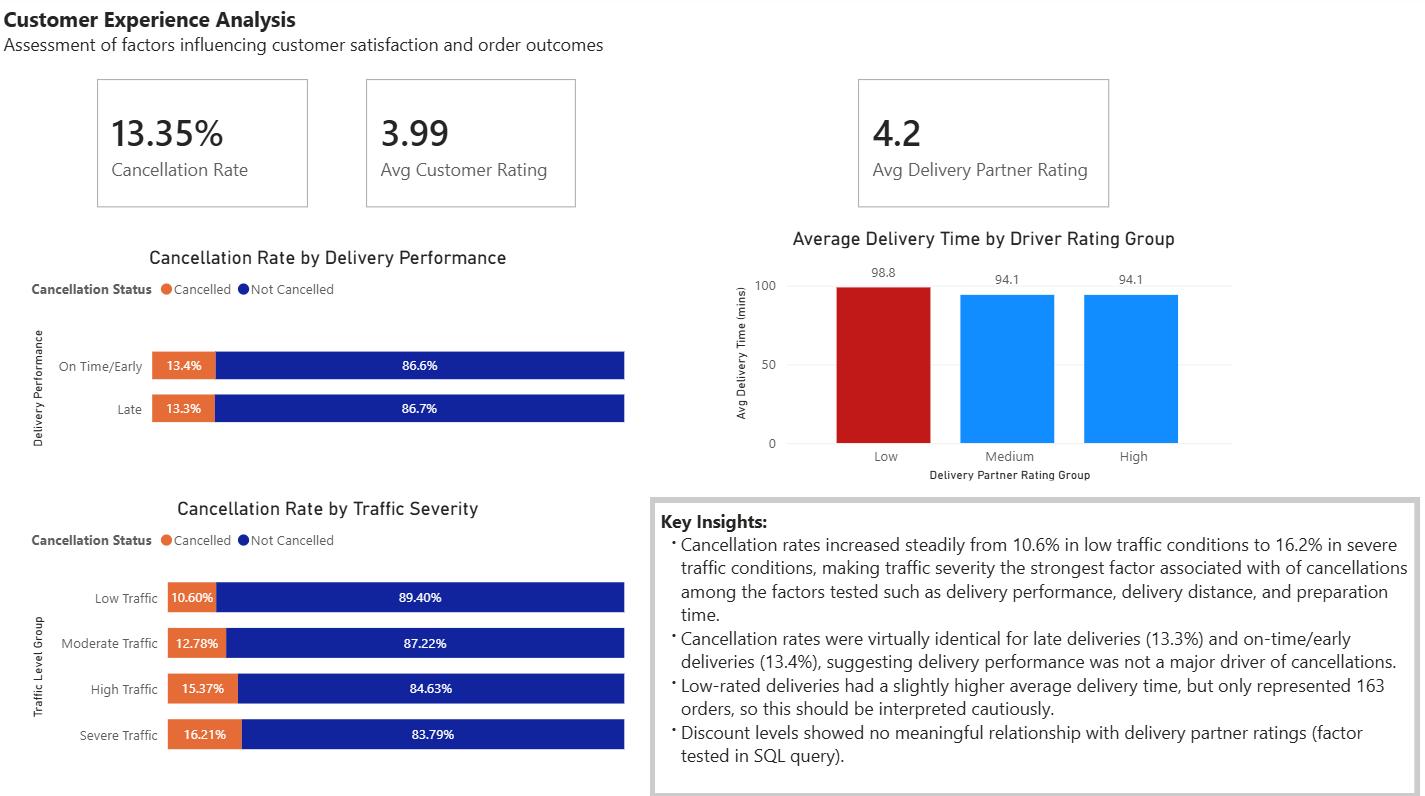

This screenshot's page, from the dashboard's own definition file:
{"tool":"powerbi","page":{"name":"Customer Experience Analysis","canvas":[1280,720],"ordinal":3},"visuals":[{"type":"shape","box":[583.6,448.4,689.6,271.4],"z":0},{"type":"textbox","box":[0,2.9,623.5,81.7],"z":1000},{"type":"cardVisual","fields":{"Data":["food_delivery_data.Avg Customer Rating"]},"box":[312.2,57.4,222.7,149.8],"z":2000},{"type":"cardVisual","fields":{"Data":["food_delivery_data.Cancellation Rate"]},"box":[72,57.4,223.7,149.8],"z":3000},{"type":"cardVisual","fields":{"Data":["food_delivery_data.Avg Delivery Partner Rating"]},"box":[752.8,57.4,259.7,149.8],"z":4000},{"type":"clusteredColumnChart","title":"Average Delivery Time by Driver Rating Group","fields":{"Category":["food_delivery_data.Customer Rating Group"],"Y":["food_delivery_data.Avg Delivery Time (mins)"]},"box":[654.6,207.2,456.2,232.5],"z":5000},{"type":"textbox","box":[588.4,454.2,679.9,259.7],"z":6000},{"type":"hundredPercentStackedBarChart","title":"Cancellation Rate by Delivery Performance","fields":{"Category":["food_delivery_data.Delivery Performance"],"Y":["CountNonNull(food_delivery_data.order_id)"],"Series":["food_delivery_data.Cancellation Status"]},"box":[25.3,223.7,540.8,199.4],"z":7000},{"type":"hundredPercentStackedBarChart","title":"Cancellation Rate by Traffic Severity","fields":{"Category":["food_delivery_data.Traffic Level Group"],"Y":["CountNonNull(food_delivery_data.order_id)"],"Series":["food_delivery_data.Cancellation Status"]},"box":[25.3,448.4,540.8,249],"z":8000}]}

Visuals, with their boxes in screenshot pixels (x1, y1, x2, y2), scaled from the page's 1280x720 canvas onto the 1425x796 screenshot:
shape: [x1=650, y1=496, x2=1417, y2=795]
textbox: [x1=0, y1=3, x2=694, y2=94]
cardVisual - food_delivery_data.Avg Customer Rating: [x1=348, y1=63, x2=595, y2=229]
cardVisual - food_delivery_data.Cancellation Rate: [x1=80, y1=63, x2=329, y2=229]
cardVisual - food_delivery_data.Avg Delivery Partner Rating: [x1=838, y1=63, x2=1127, y2=229]
"Average Delivery Time by Driver Rating Group" clusteredColumnChart: [x1=729, y1=229, x2=1237, y2=486]
textbox: [x1=655, y1=502, x2=1412, y2=789]
"Cancellation Rate by Delivery Performance" hundredPercentStackedBarChart: [x1=28, y1=247, x2=630, y2=468]
"Cancellation Rate by Traffic Severity" hundredPercentStackedBarChart: [x1=28, y1=496, x2=630, y2=771]
